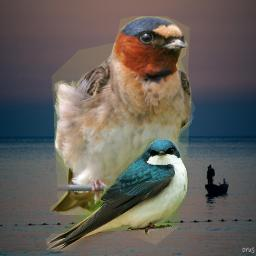Swallow: (50, 16, 196, 215), (46, 138, 189, 251)
